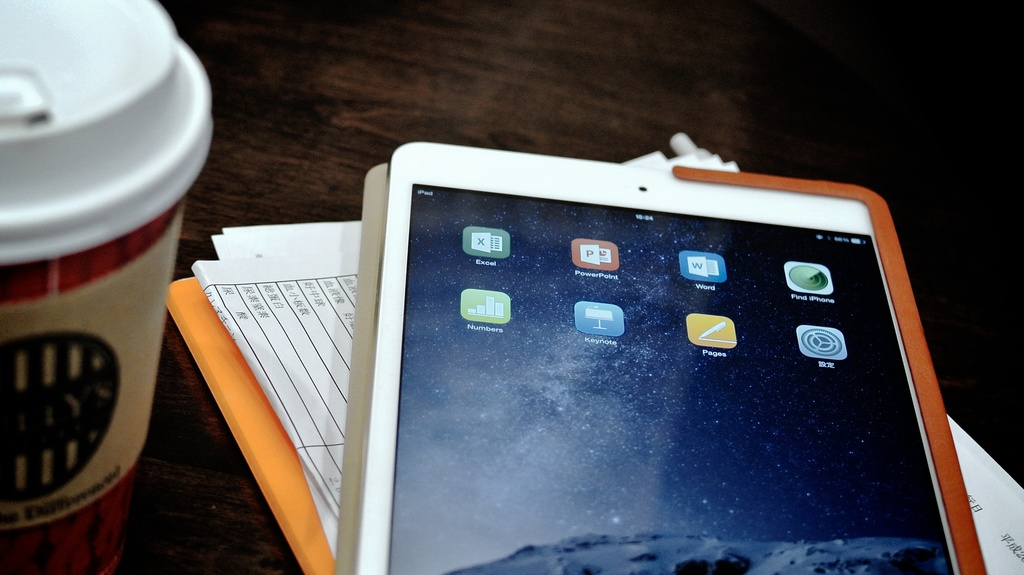Mobile-phone: (353, 149, 957, 575)
